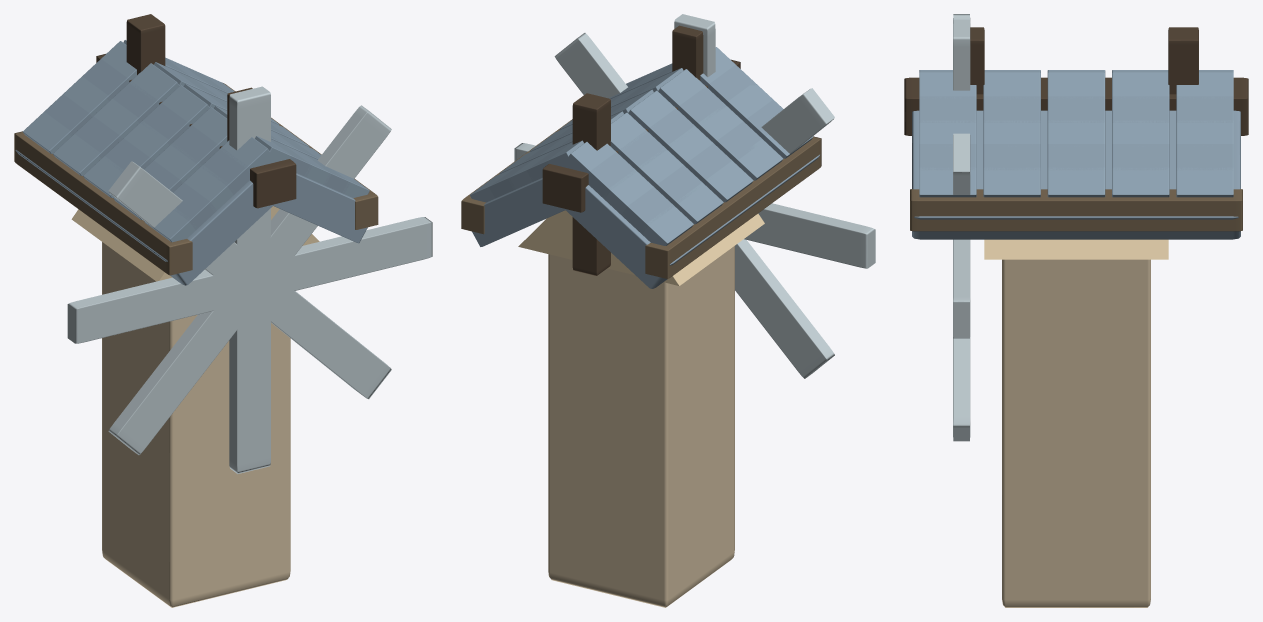
Rendered from windmill-1.glb.
The picture shows the model from 3 angles, left to right: view 1: azimuth 30°, elevation 25°; view 2: azimuth 150°, elevation 25°; view 3: azimuth 270°, elevation 25°; orthographic projection. The views are drawn at different scales.
Visible parts, largest first — view 1: windmill-1-0; view 2: windmill-1-0; view 3: windmill-1-0.
Part boxes in pixels (left/top/right/bottom): windmill-1-0: left=14, top=14, right=432, bottom=607; windmill-1-0: left=461, top=14, right=875, bottom=607; windmill-1-0: left=904, top=14, right=1248, bottom=607.
Bounding box in the file's own units: 1.15 × 1.59 × 0.9.
